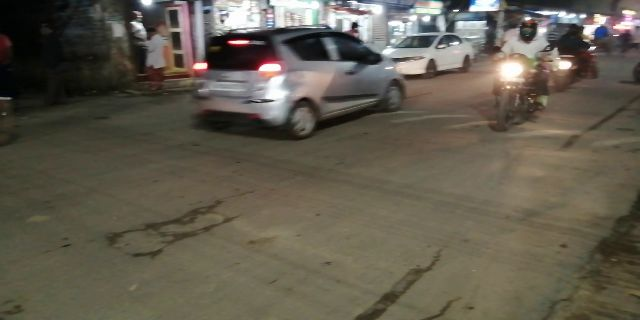Car: (193, 23, 404, 138), (379, 32, 476, 80)
Motorbike: (495, 20, 556, 130)
